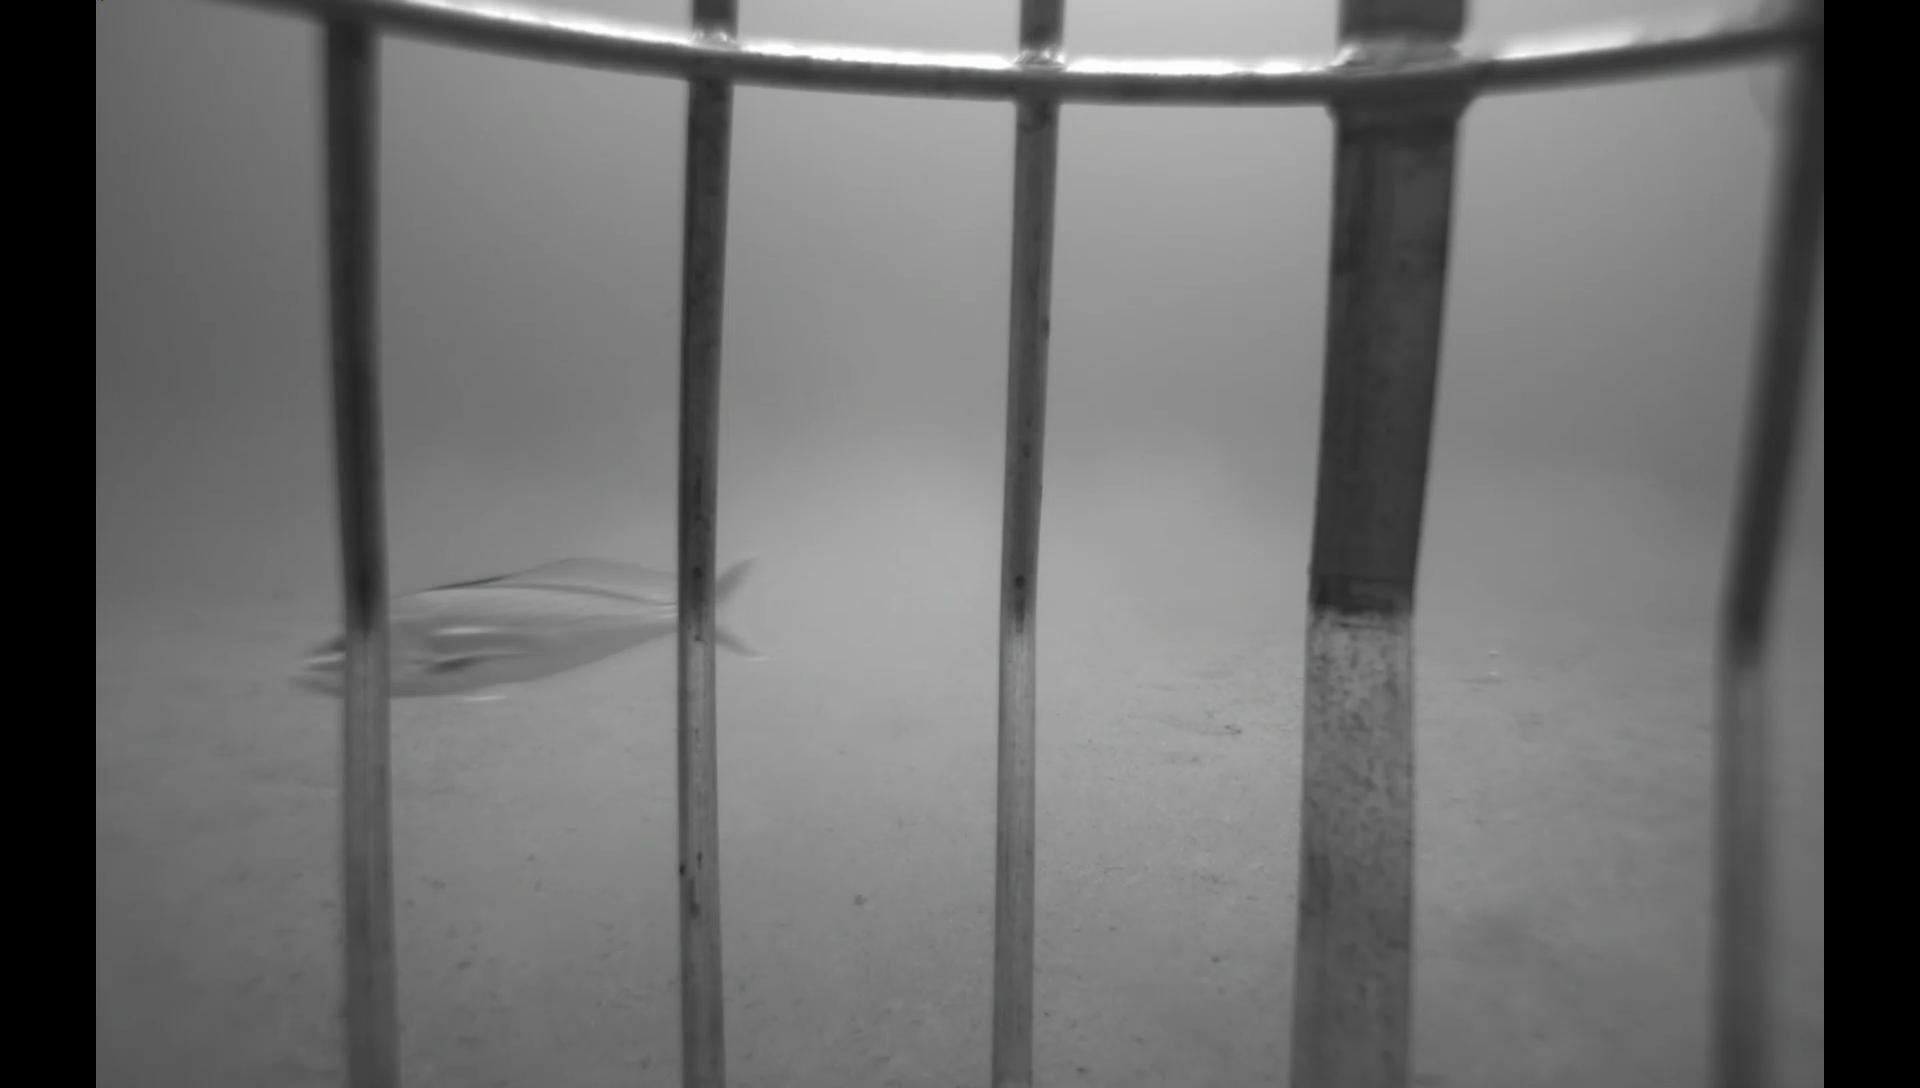CAULOLATILUSCYANOPS-170070101: (280, 549, 786, 717)
SYACIUM-183011000: (1143, 699, 1249, 742)
